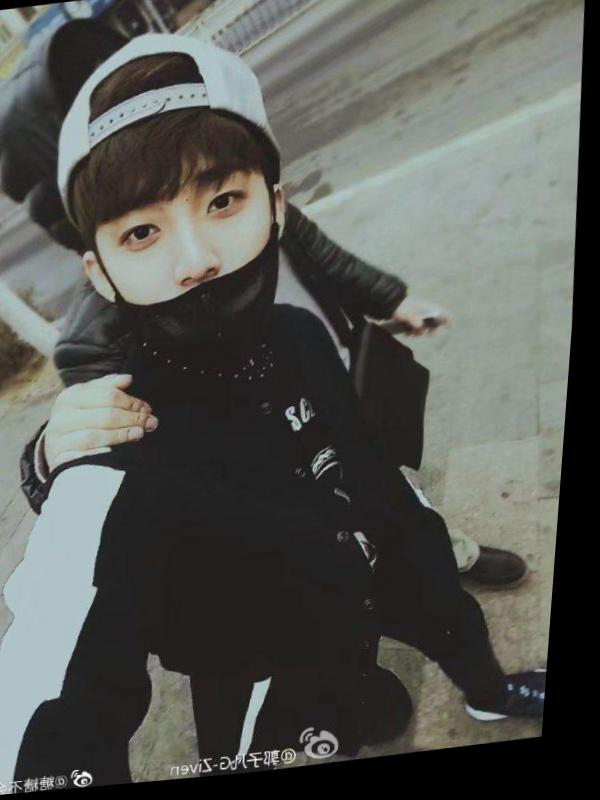WRONG: (91, 150, 294, 389)
